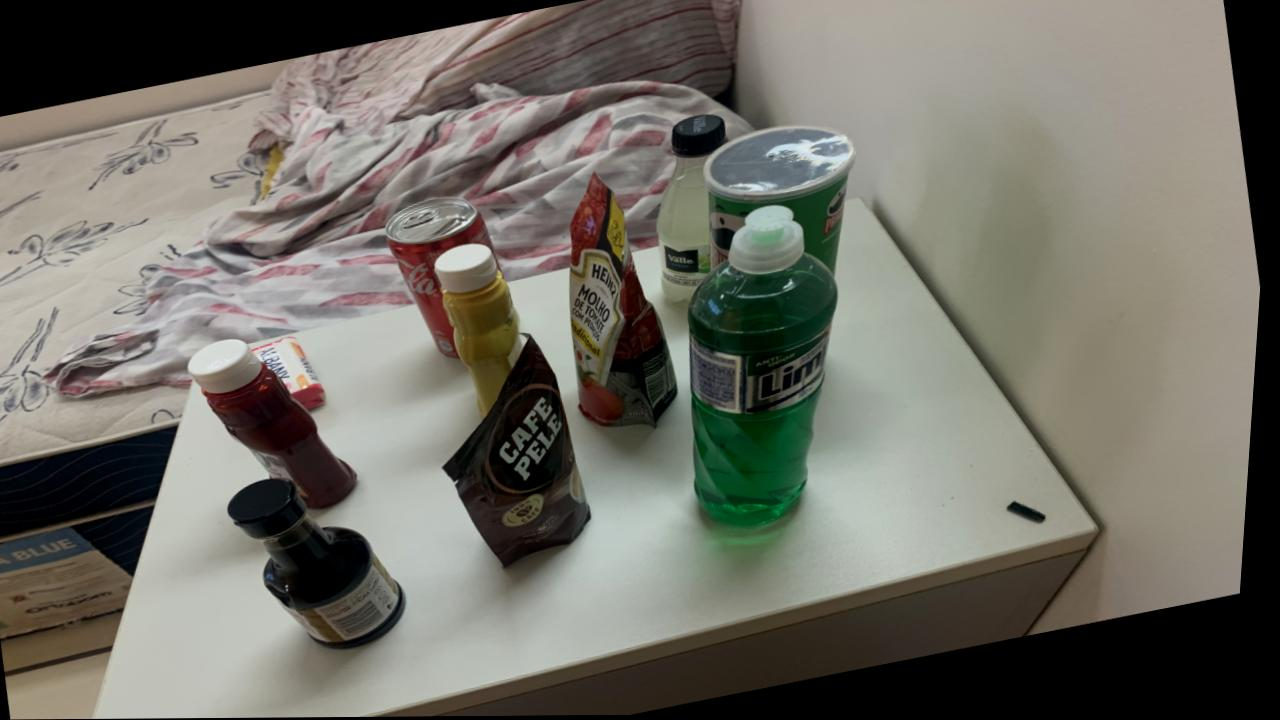Coffee-Pantry_Items: (451, 341, 598, 565)
Coke-Drinks: (388, 197, 496, 359)
Detergent-Cleanup_Items: (691, 206, 842, 526)
English_Sauce-Pantry_Items: (235, 477, 414, 649)
Ketchup-Pantry_Items: (192, 339, 363, 508)
Mustard-Pantry_Items: (437, 243, 528, 417)
Pringles-Snacks: (705, 126, 858, 272)
Soap-Cleanup_Items: (258, 336, 332, 410)
Soda-Drinks: (659, 114, 728, 302)
Tomato_Sauce-Pantry_Items: (572, 177, 683, 427)
